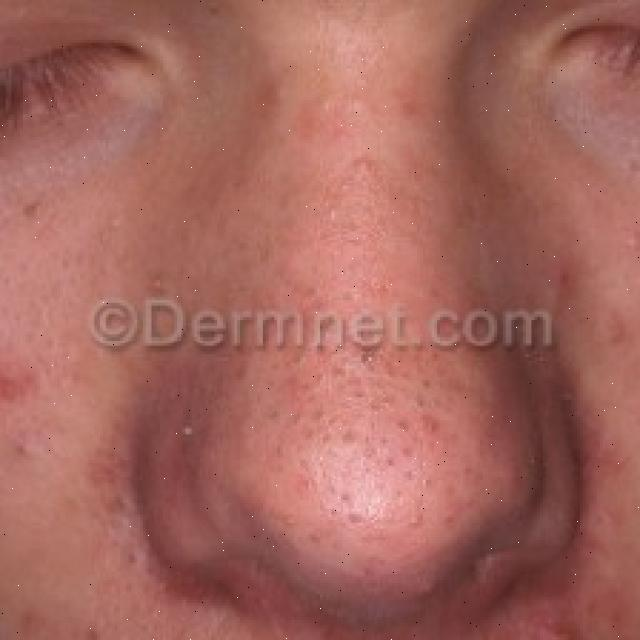Acne: (220, 346, 475, 526)
